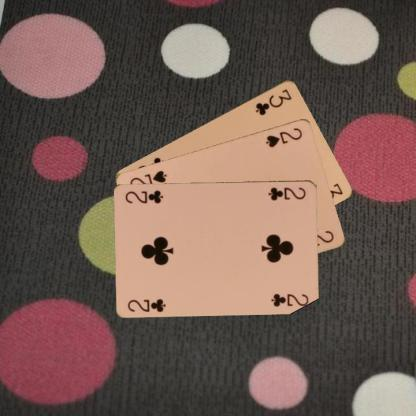2c: (125, 296, 167, 313), (266, 184, 307, 201)
2s: (263, 125, 304, 148)
3c: (252, 86, 293, 117)
